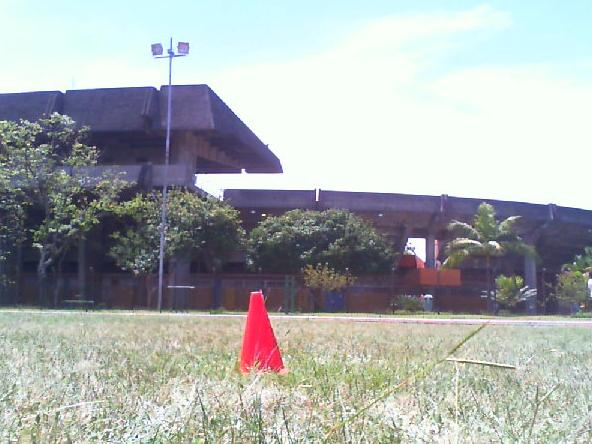0 cone: (239, 291, 292, 376)
